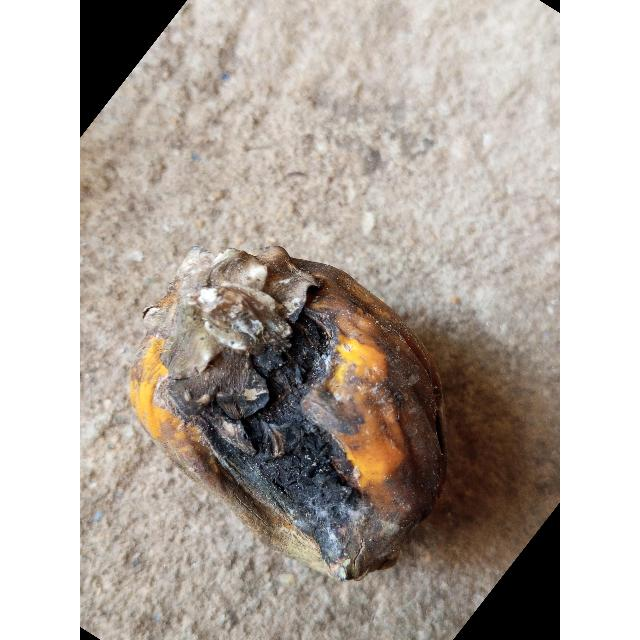damaged: (126, 244, 447, 584)
